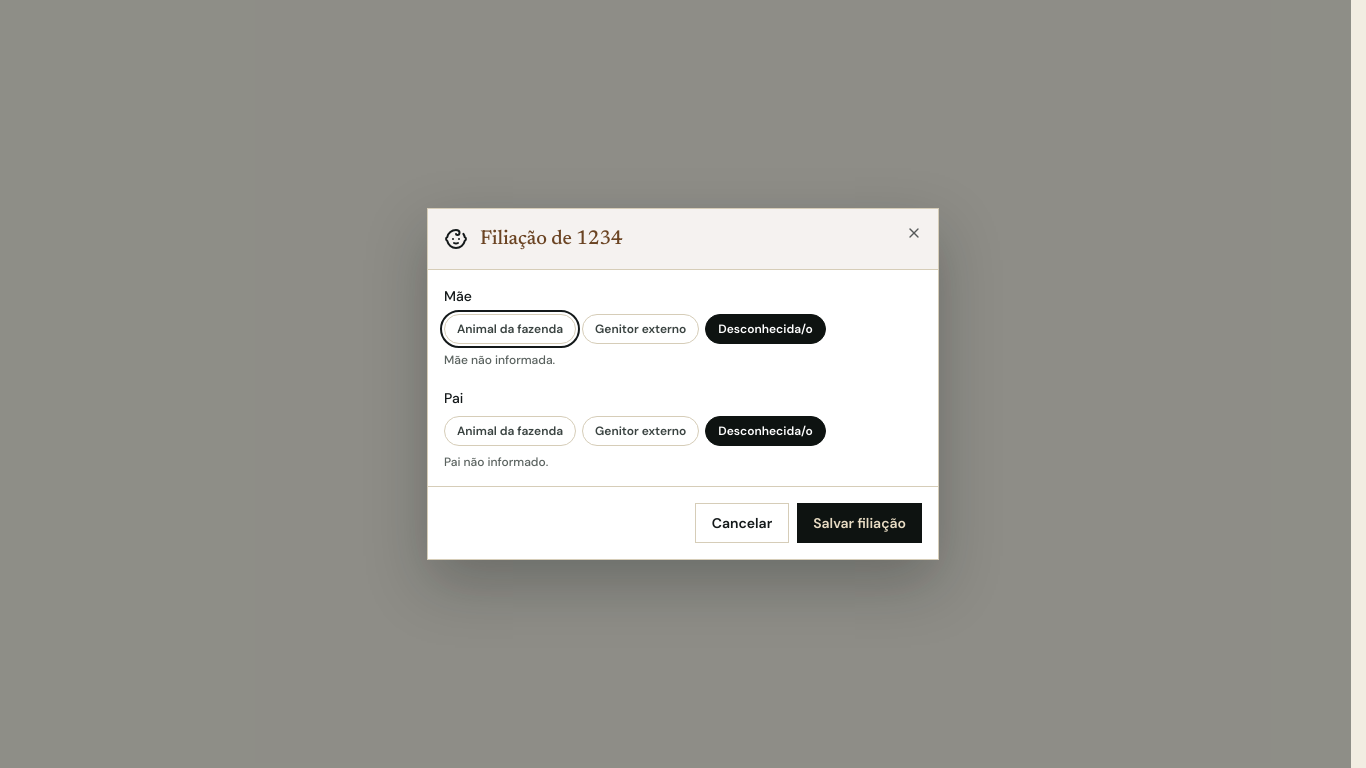
it: FormFiliacao › avisa quando a nova filiação substituiu uma composição divergente
Click the button "Salvar filiação" at (860, 523), box 797,503 -> 922,543
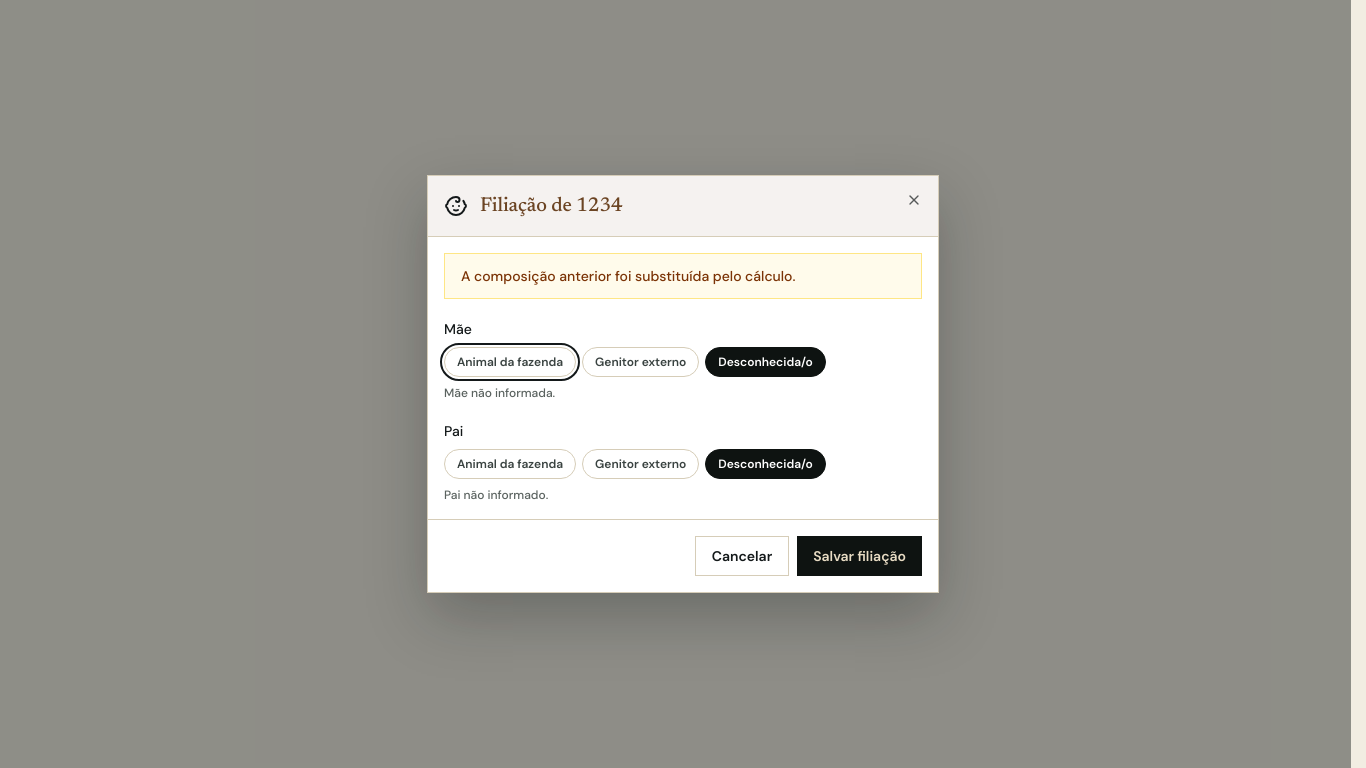
Expected: the text "A composição anterior foi substituída pelo cálculo." is shown, 461,267 -> 796,285
